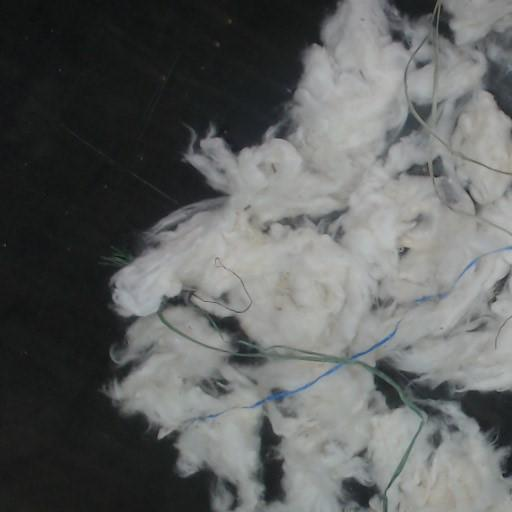cotton: (104, 0, 511, 511)
thread: (156, 301, 427, 511), (404, 0, 511, 175), (410, 245, 511, 304), (184, 257, 252, 327), (427, 152, 439, 198), (495, 314, 511, 348)
